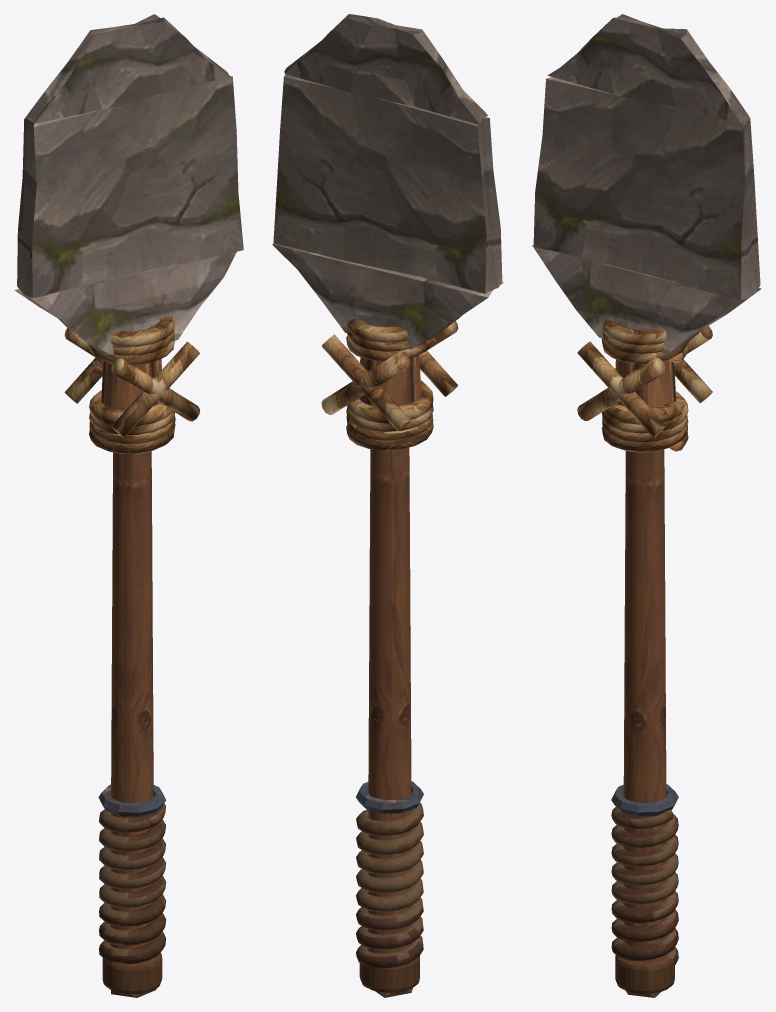
The model's file is masons_shovel.glb.
3 views of the same model, side by side, from view 1: azimuth 30°, elevation 25°; view 2: azimuth 150°, elevation 25°; view 3: azimuth 330°, elevation 25° (orthographic).
Visible parts, largest first — view 1: model; view 2: model; view 3: model.
Boxes of the visible parts, x1,y1,x2,y2 form: model: [14, 14, 243, 997]; model: [272, 14, 503, 997]; model: [532, 14, 761, 997].
Size of the model in its own units: 0.2548 by 1.09 by 0.1131.
8 materials, 8 textured.
